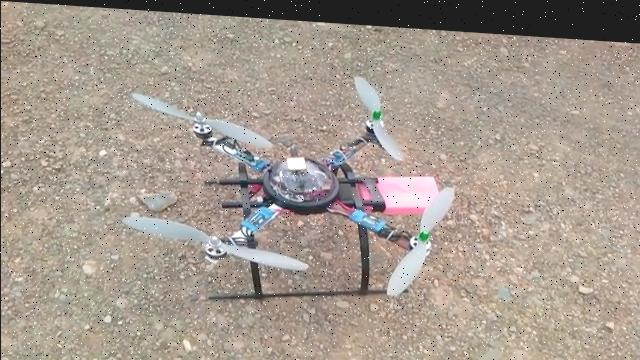drone: (119, 51, 455, 311)
